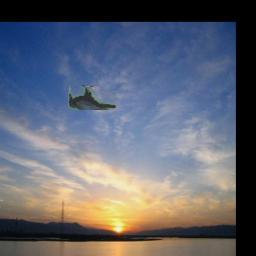Crow: (69, 85, 116, 110)
